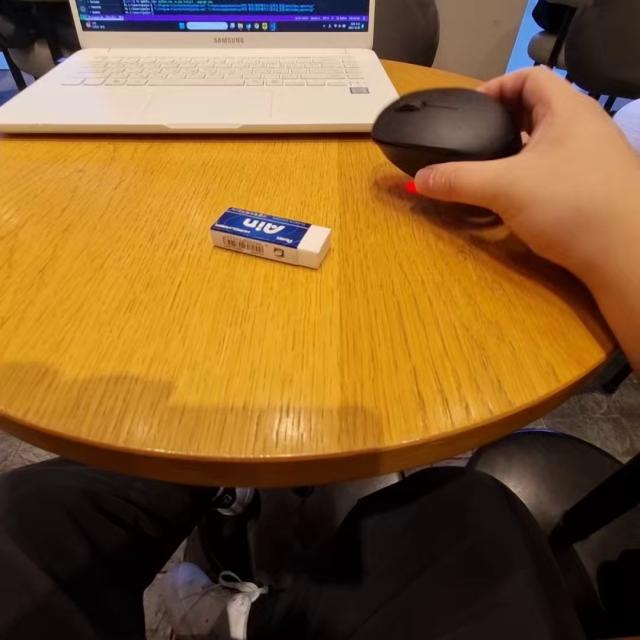eraser: (202, 210, 344, 278)
grab_mouse: (366, 70, 640, 254)
